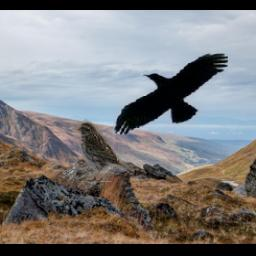Crow: (113, 54, 228, 135)
Sparrow: (74, 120, 135, 183)
